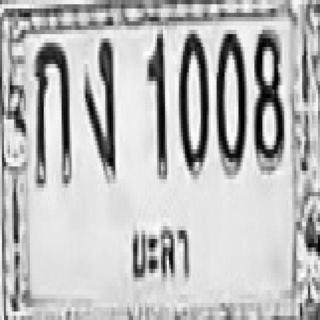A01: (34, 38, 70, 184)
A07: (84, 34, 113, 175)
N00: (177, 32, 207, 173), (215, 30, 244, 171)
N01: (145, 30, 165, 175)
N08: (252, 28, 282, 169)
P76: (130, 217, 192, 290)
